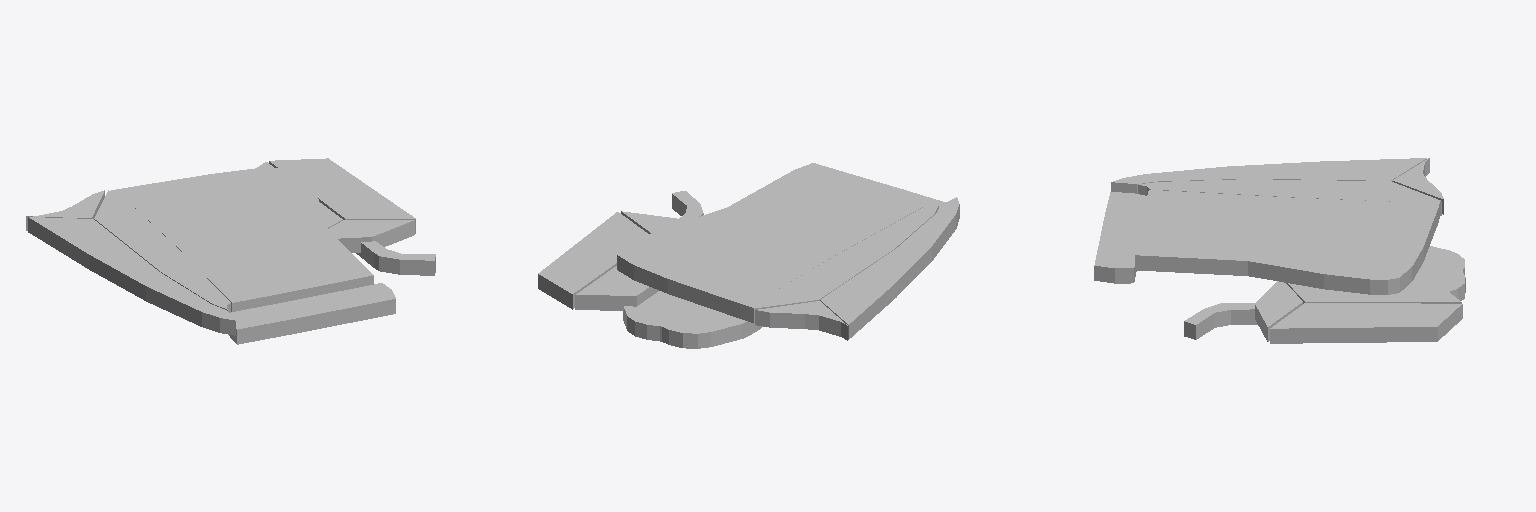
The model's file is food.obj.
3 renders of one model, left to right at view 1: azimuth 30°, elevation 25°; view 2: azimuth 150°, elevation 25°; view 3: azimuth 270°, elevation 25°, orthographic.
Parts seen in each view (by area): view 1: obj_0; view 2: obj_0; view 3: obj_0.
Boxes of the visible parts, x1,y1,x2,y2 form: obj_0: [26, 158, 435, 344]; obj_0: [538, 163, 959, 348]; obj_0: [1094, 158, 1465, 343].
Size of the model in its own units: 214 by 30 by 222.